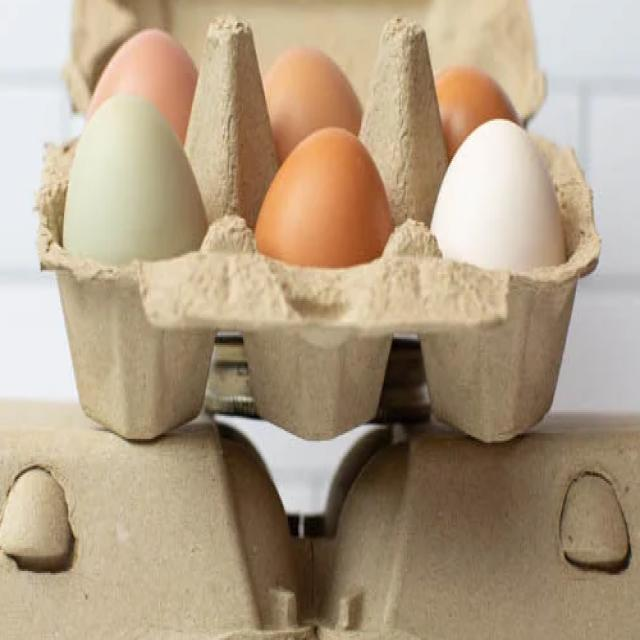egg carton: (306, 409, 640, 640), (0, 397, 310, 640)
eggs: (63, 95, 208, 264), (431, 118, 569, 267), (254, 128, 392, 268), (84, 29, 198, 147), (262, 44, 362, 169), (434, 68, 523, 161)
